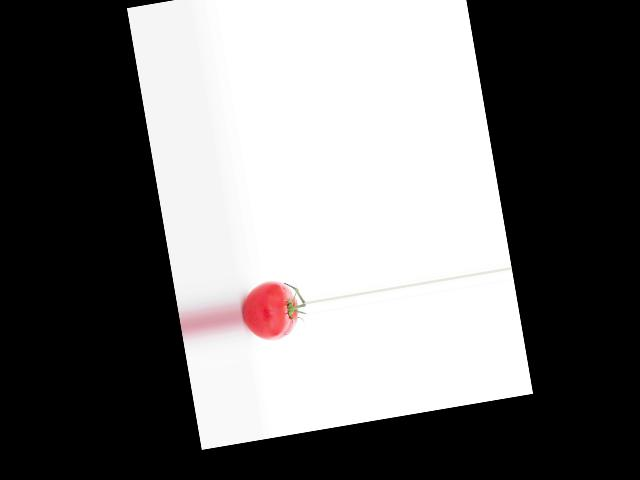tomato: (238, 278, 302, 345)
